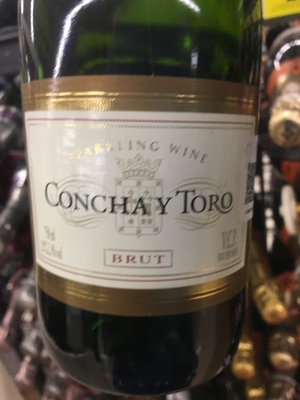brut: (16, 1, 263, 363)
